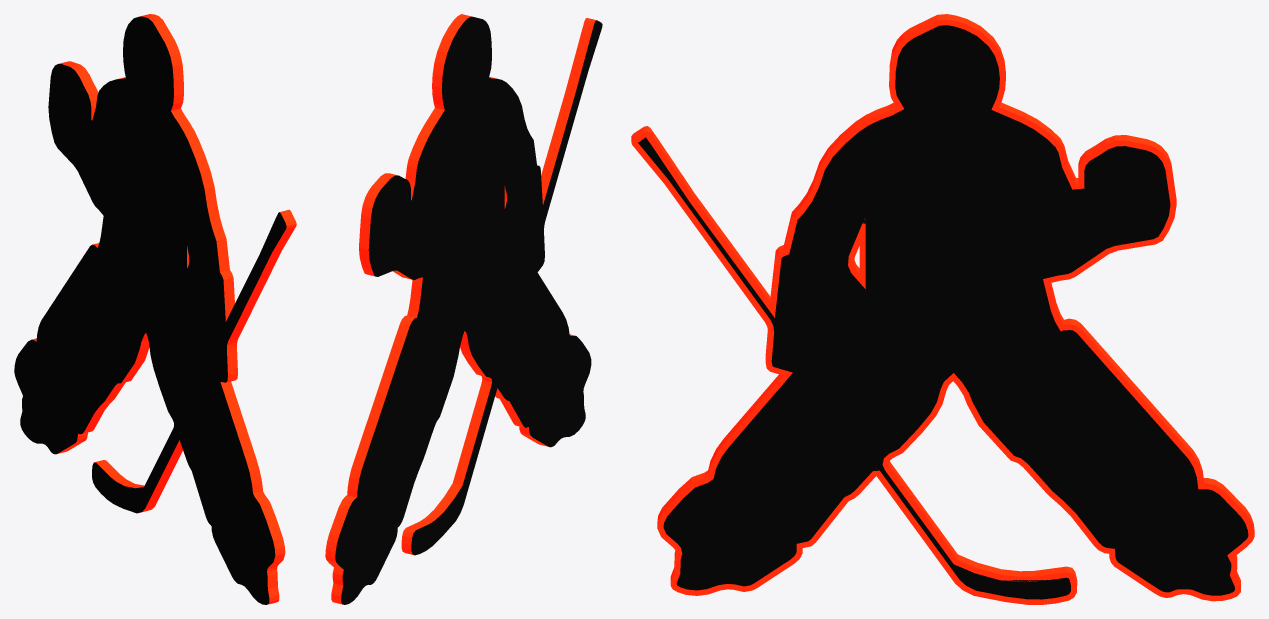
The model's file is goalKeeper.glb.
3 renders of one model, left to right at view 1: azimuth 30°, elevation 25°; view 2: azimuth 150°, elevation 25°; view 3: azimuth 270°, elevation 25°, orthographic. The views are drawn at different scales.
Visible parts, largest first — view 1: Curve.002; view 2: Curve.002; view 3: Curve.002.
Boxes of the visible parts, left/top/right/bottom form: Curve.002: left=14, top=14, right=296, bottom=604; Curve.002: left=325, top=14, right=602, bottom=604; Curve.002: left=631, top=14, right=1254, bottom=604.
Size of what is drawn, in the model's own units: 0.0566 by 2.75 by 2.65.
